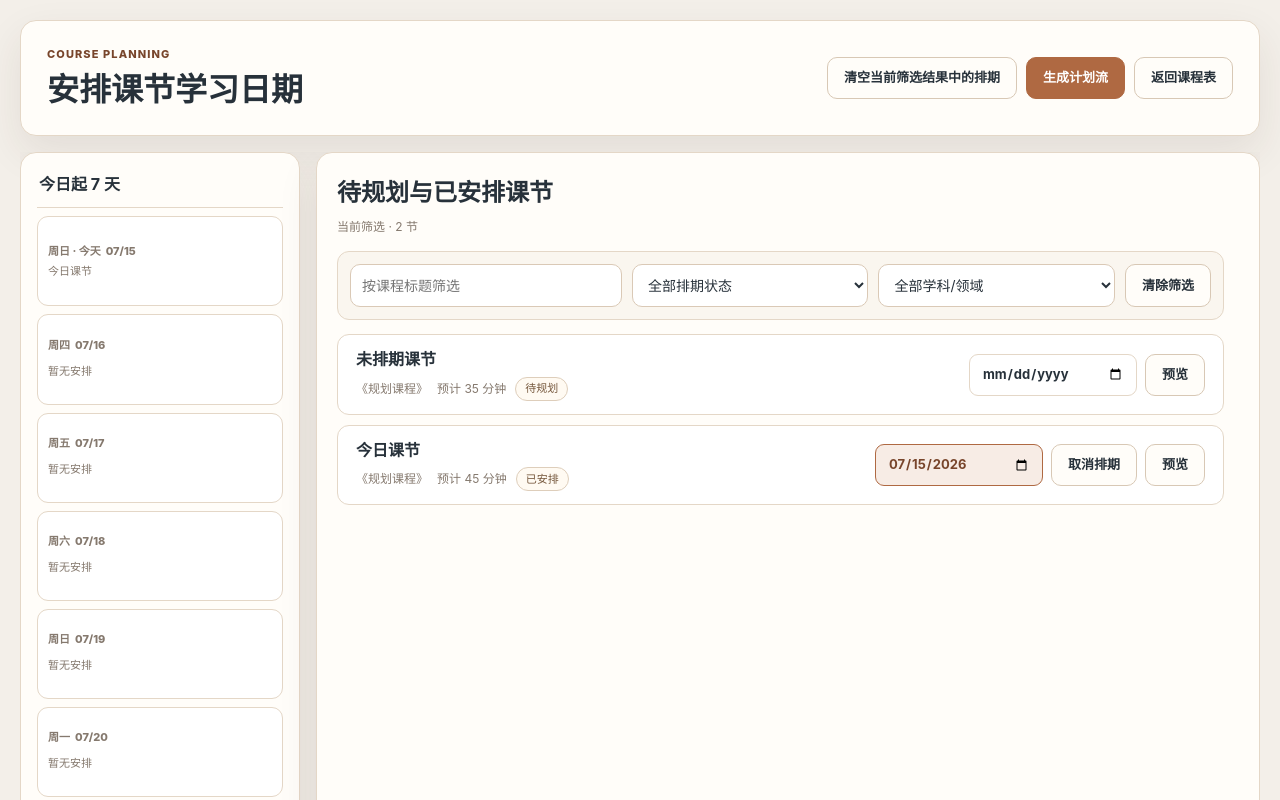
Test case: PlanningWorkspaceView date scheduling › shows the same authoritative lesson content used by course navigation
Click the button "预览" in the row of "35" at (1175, 374), box [1145, 353, 1205, 395]
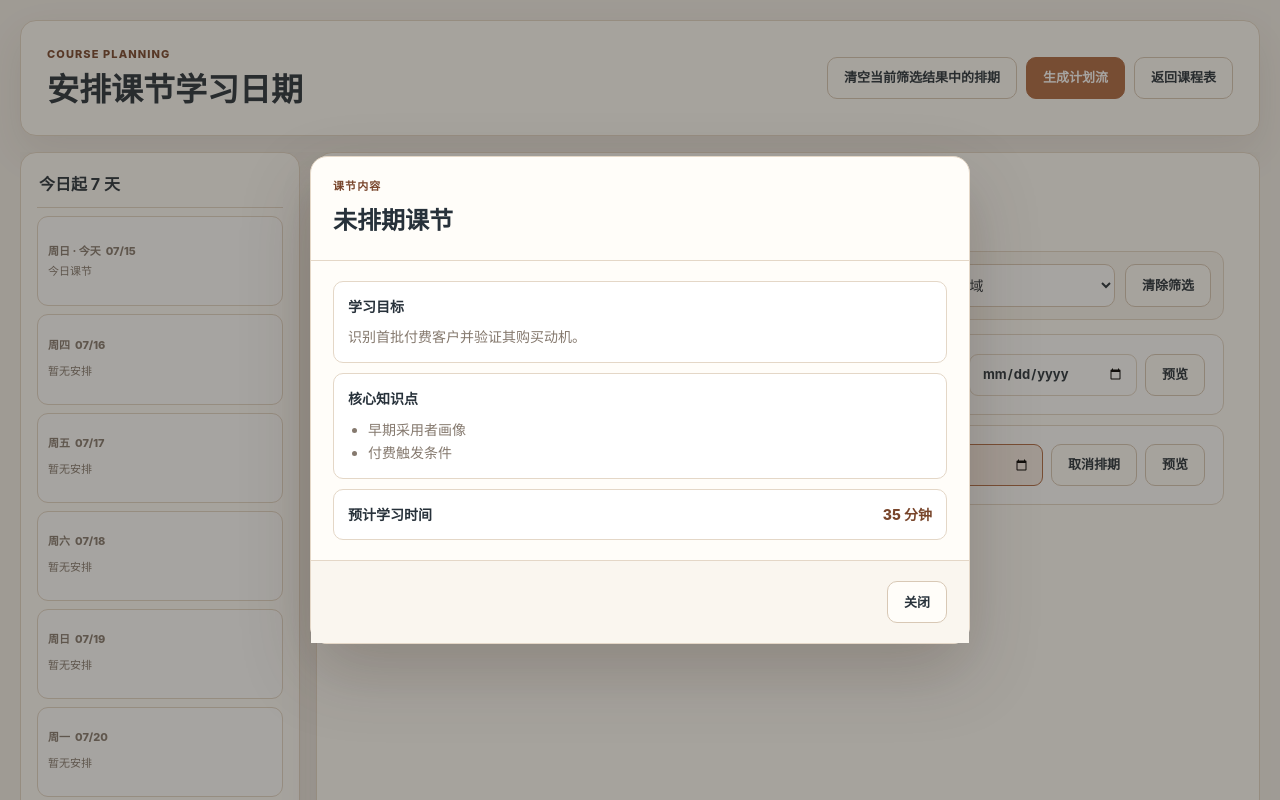
Now the dialog "未排期课节" is shown, box [310, 156, 970, 644]
Now the text "识别首批付费客户并验证其购买动机。" is shown, box [348, 328, 586, 346]
Now the list item "早期采用者画像" is shown, box [368, 421, 466, 438]
